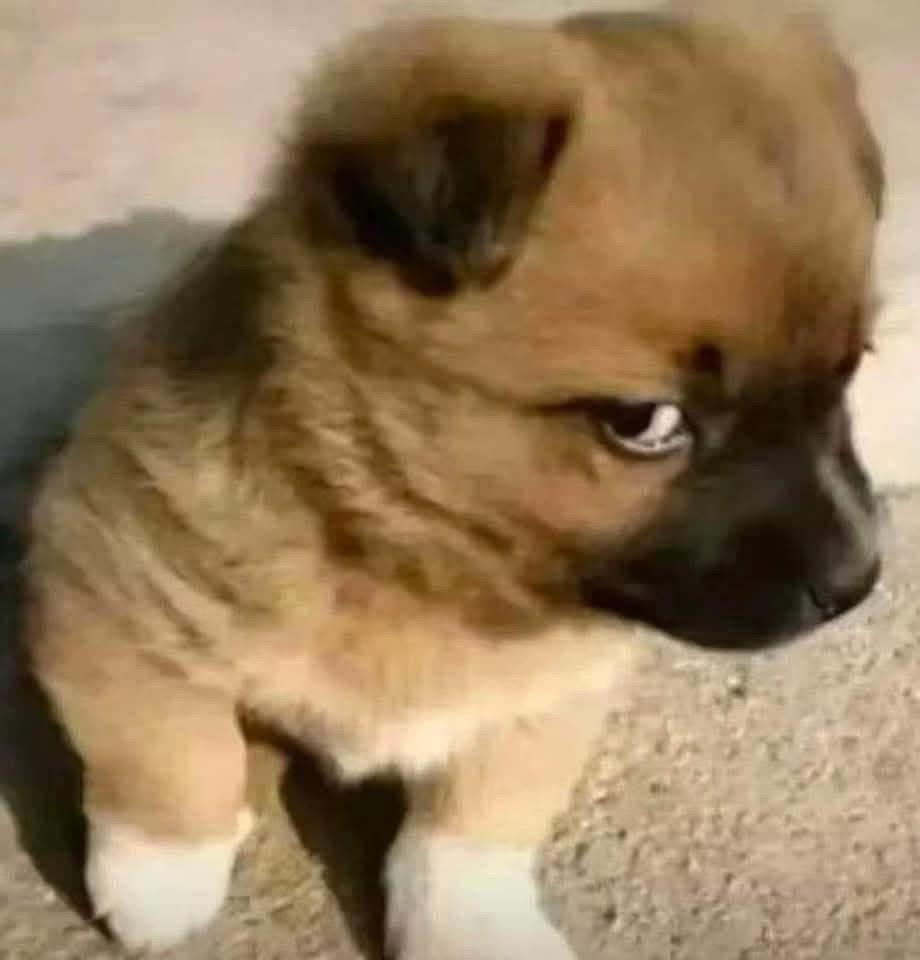puppy-dog: (19, 4, 886, 960)
